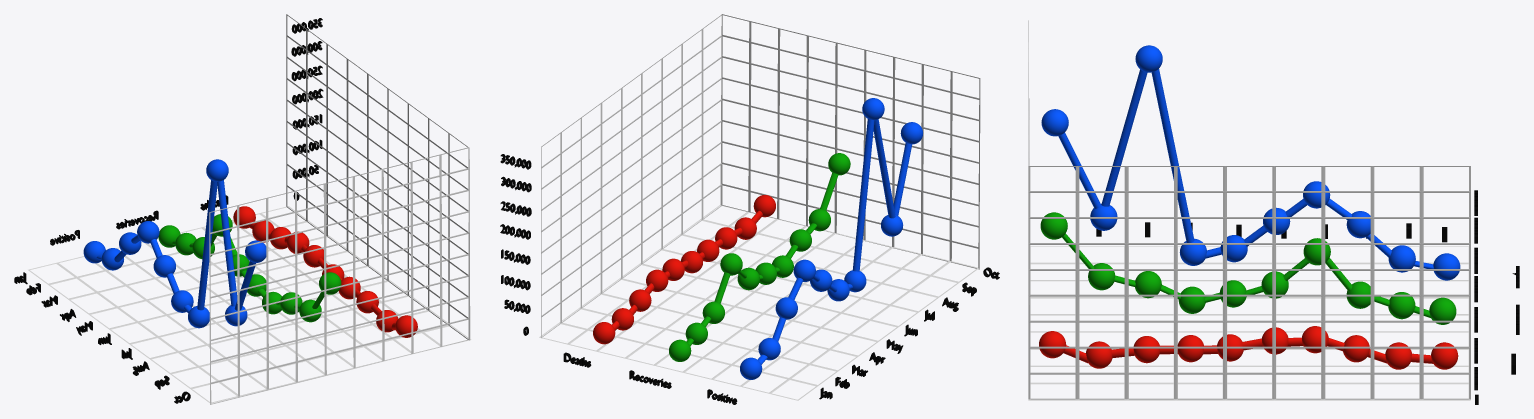
The model's file is Final-line-graph.fbx.
3 views of the same model, side by side, from view 1: azimuth 30°, elevation 25°; view 2: azimuth 150°, elevation 25°; view 3: azimuth 270°, elevation 25° (orthographic). The views are drawn at different scales.
Visible parts, largest first — view 1: Cylinder.001; view 2: Cylinder.001; view 3: Cylinder.001.
Boxes of the visible parts, x1=… form: Cylinder.001: x1=14, y1=14, x2=471, y2=404; Cylinder.001: x1=500, y1=14, x2=999, y2=404; Cylinder.001: x1=1028, y1=20, x2=1519, y2=404.
Bounding box in the file's own units: 4290 × 2466 × 4641.
